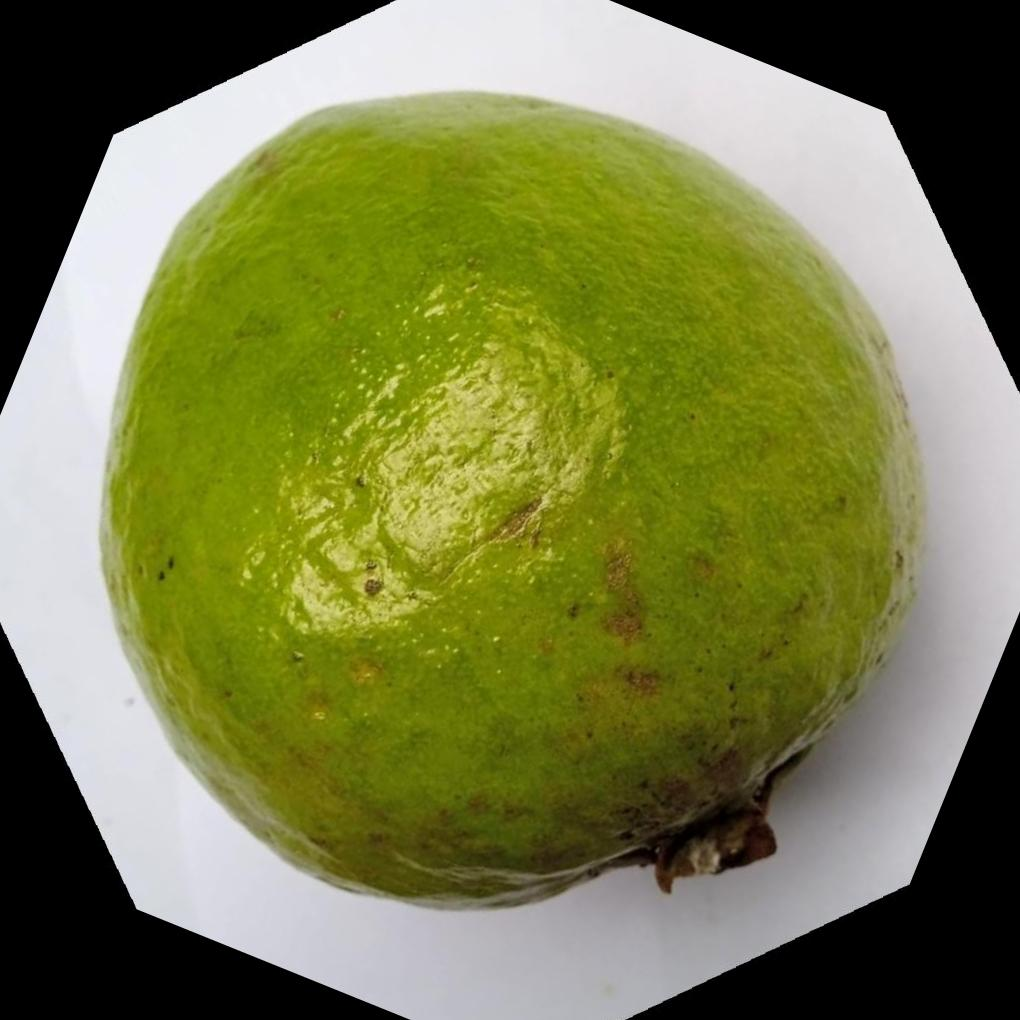FreshGuava: (92, 86, 923, 909)
